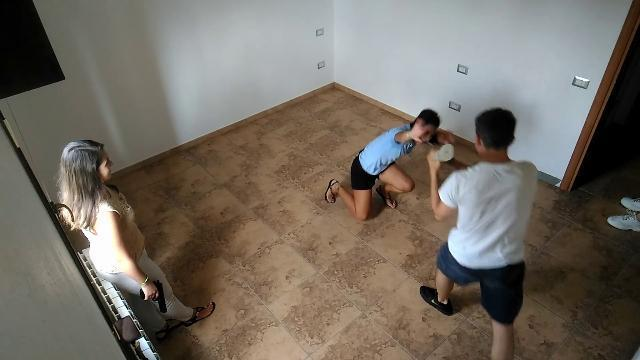non-violence: (52, 138, 218, 344)
violence: (325, 106, 541, 358)
weapon: (139, 281, 168, 314)
